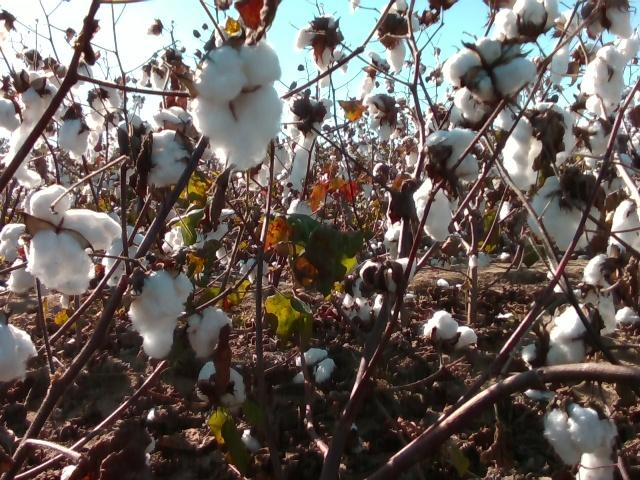cotton_ready: (194, 44, 282, 169), (22, 185, 119, 290), (522, 291, 620, 368), (501, 100, 576, 185), (542, 398, 618, 480), (128, 269, 194, 362), (525, 178, 605, 254), (6, 74, 59, 184), (449, 38, 534, 100), (581, 200, 640, 286), (283, 97, 332, 190), (340, 256, 417, 309), (160, 209, 237, 255), (581, 39, 640, 97), (379, 0, 420, 75), (493, 0, 557, 46), (196, 360, 250, 414), (105, 225, 146, 295), (147, 127, 192, 190), (425, 128, 482, 177), (298, 16, 345, 71), (412, 179, 451, 245), (186, 307, 234, 359), (0, 222, 35, 293), (0, 322, 38, 385), (420, 309, 480, 348), (584, 0, 634, 41), (54, 102, 89, 157), (115, 114, 149, 168), (292, 350, 337, 389), (364, 94, 399, 141), (0, 90, 21, 133), (151, 106, 196, 126)
